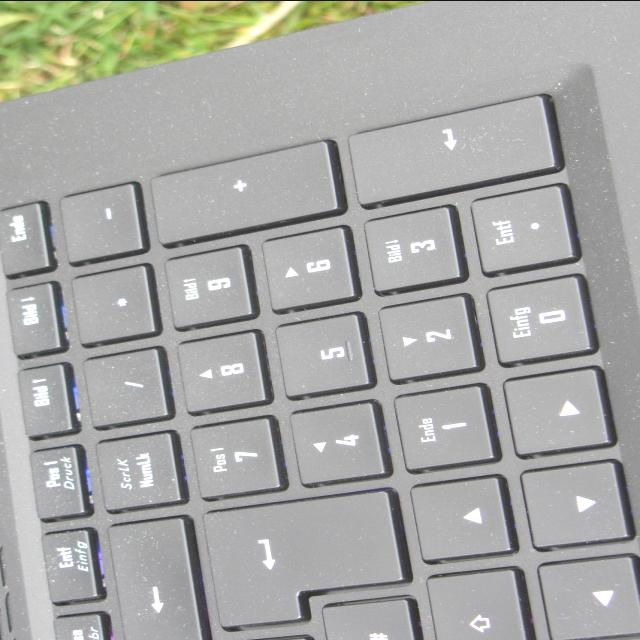accent: (126, 623, 218, 640)
ae: (329, 622, 431, 640)
del: (105, 514, 207, 640)
enter: (195, 485, 407, 637)
hash: (317, 596, 423, 640)
keyboard: (0, 65, 640, 640)
plus: (220, 604, 319, 640)
shift-right: (422, 564, 542, 640)
strg-right: (550, 602, 640, 640)
